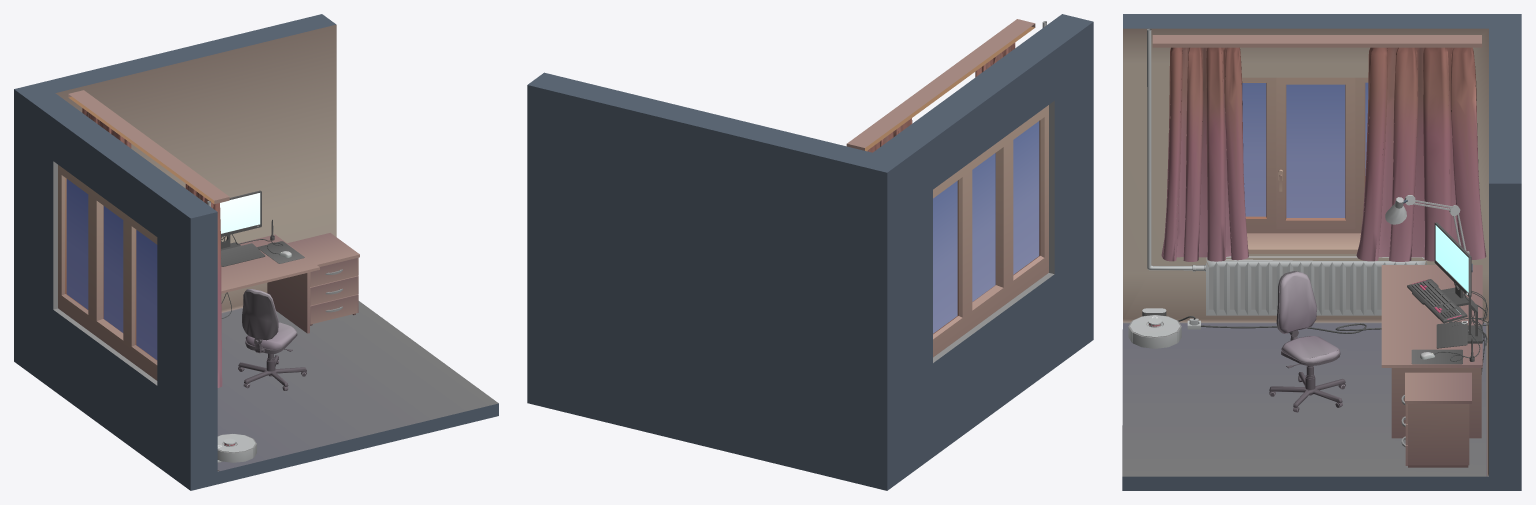
Rendered from optimized-room.glb.
3 views of the same model, side by side, from view 1: azimuth 30°, elevation 25°; view 2: azimuth 150°, elevation 25°; view 3: azimuth 270°, elevation 25° (orthographic). The views are drawn at different scales.
Visible parts, largest first — view 1: body1, window4, window, table, cabin, railing, chair_body, emis, _________6_blinn1_0, vacuum1, pillows, tablet (+1 smaller); view 2: body1, window4, window, railing; view 3: body1, _________6_blinn1_0, window4, window, radiator, table, cabin, railing, pillows, vacuum1, chair_body, radiator_blinn1_0.001 (+8 smaller).
Part boxes in pixels (x1,y1,x2,y2): body1: [14, 14, 498, 490]; window4: [66, 179, 157, 359]; window: [58, 165, 157, 380]; table: [221, 234, 319, 333]; cabin: [287, 233, 359, 325]; railing: [68, 90, 229, 204]; chair_body: [238, 290, 306, 390]; emis: [218, 193, 281, 447]; _________6_blinn1_0: [82, 108, 222, 387]; vacuum1: [217, 434, 256, 462]; pillows: [245, 289, 296, 349]; tablet: [221, 243, 265, 266]; body1: [527, 14, 1093, 490]; window4: [933, 121, 1039, 333]; window: [933, 105, 1048, 357]; railing: [846, 19, 1035, 151]; body1: [1122, 14, 1521, 490]; _________6_blinn1_0: [1161, 47, 1486, 261]; window4: [1242, 82, 1368, 217]; window: [1242, 77, 1368, 253]; radiator: [1206, 256, 1426, 315]; table: [1381, 265, 1482, 438]; cabin: [1405, 372, 1471, 467]; railing: [1152, 35, 1481, 47]; pillows: [1278, 271, 1339, 362]; vacuum1: [1128, 308, 1198, 348]; chair_body: [1269, 271, 1345, 412]; radiator_blinn1_0.001: [1147, 28, 1205, 271].
Size of the model in its own units: 6.68 by 5.66 by 6.65.
